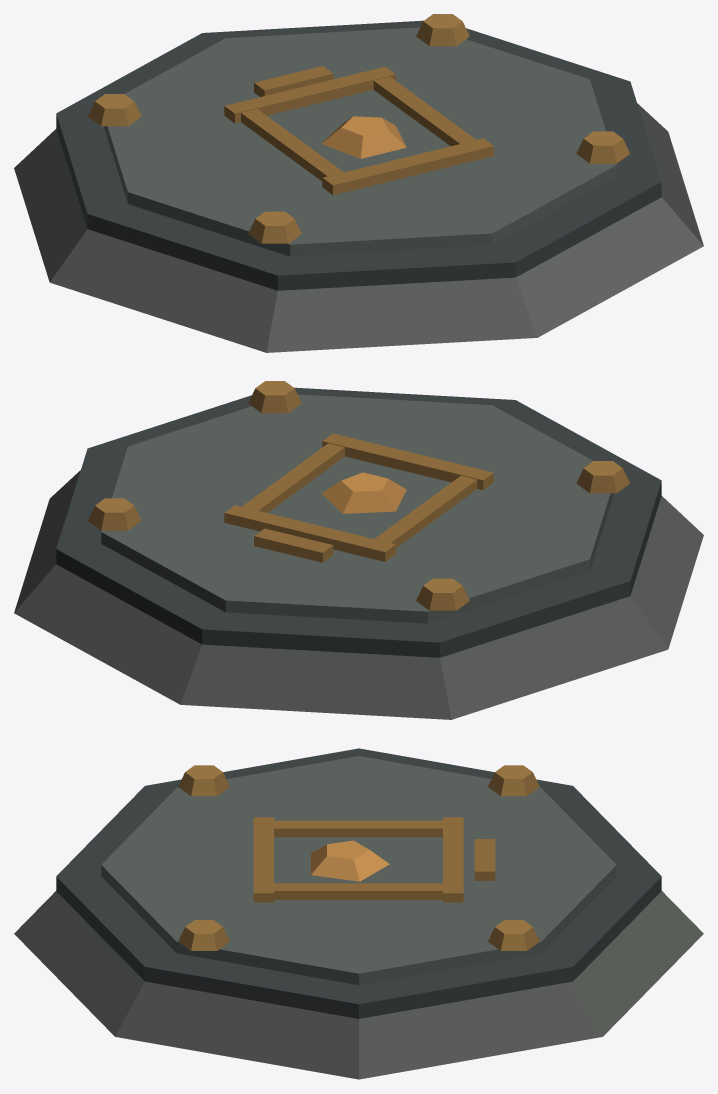
The model's file is lantern-plate.glb.
The picture shows the model from 3 angles, top to bottom: view 1: azimuth 30°, elevation 25°; view 2: azimuth 150°, elevation 25°; view 3: azimuth 270°, elevation 25°; orthographic projection. The views are drawn at different scales.
Parts seen in each view (by area): view 1: Lantern Gate pressure plate; view 2: Lantern Gate pressure plate; view 3: Lantern Gate pressure plate.
Part boxes in pixels (x1,y1,x2,y2): Lantern Gate pressure plate: (14, 14, 703, 352); Lantern Gate pressure plate: (14, 381, 703, 719); Lantern Gate pressure plate: (14, 748, 703, 1079).
Bounding box in the file's own units: 0.98 × 0.132 × 0.98.
